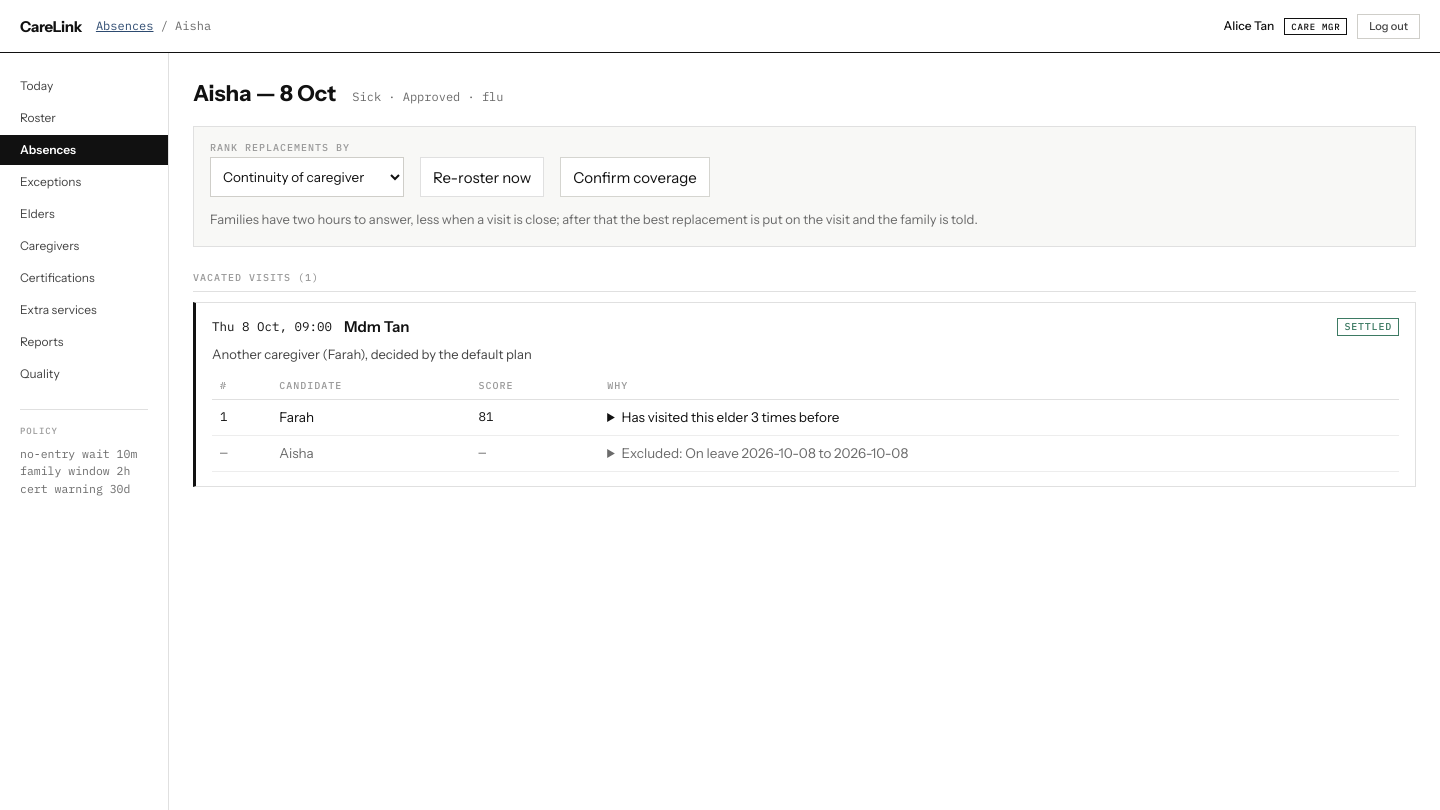
Test: shows the server sentence when coverage cannot be confirmed yet
Expected: the text "Another caregiver (Farah), decided by the default plan" is shown, [212, 346, 532, 362]
Click the button "Confirm coverage".
click(635, 177)  # box [560, 157, 710, 197]
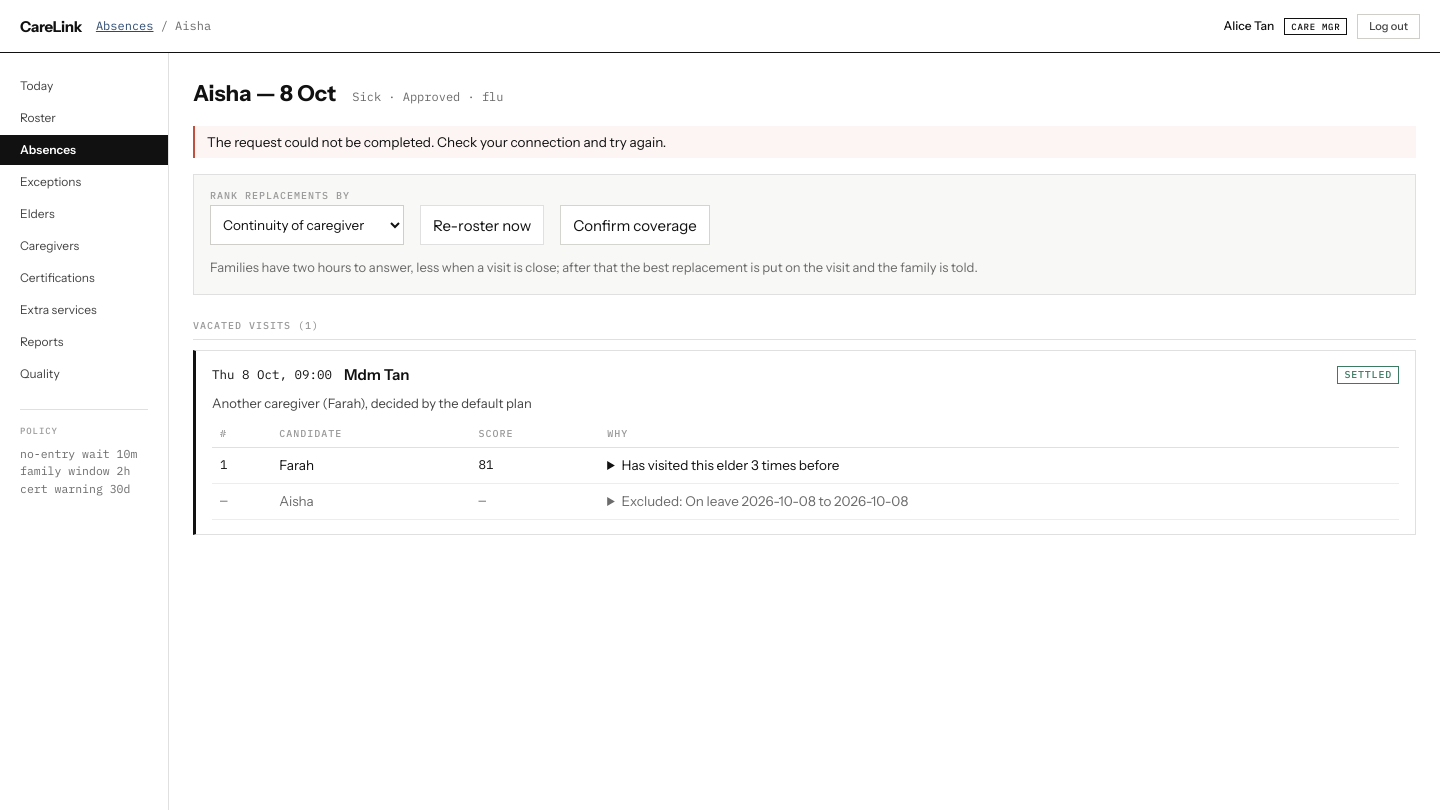
Expected: the message shows "The request could not be completed", [207, 134, 666, 150]
